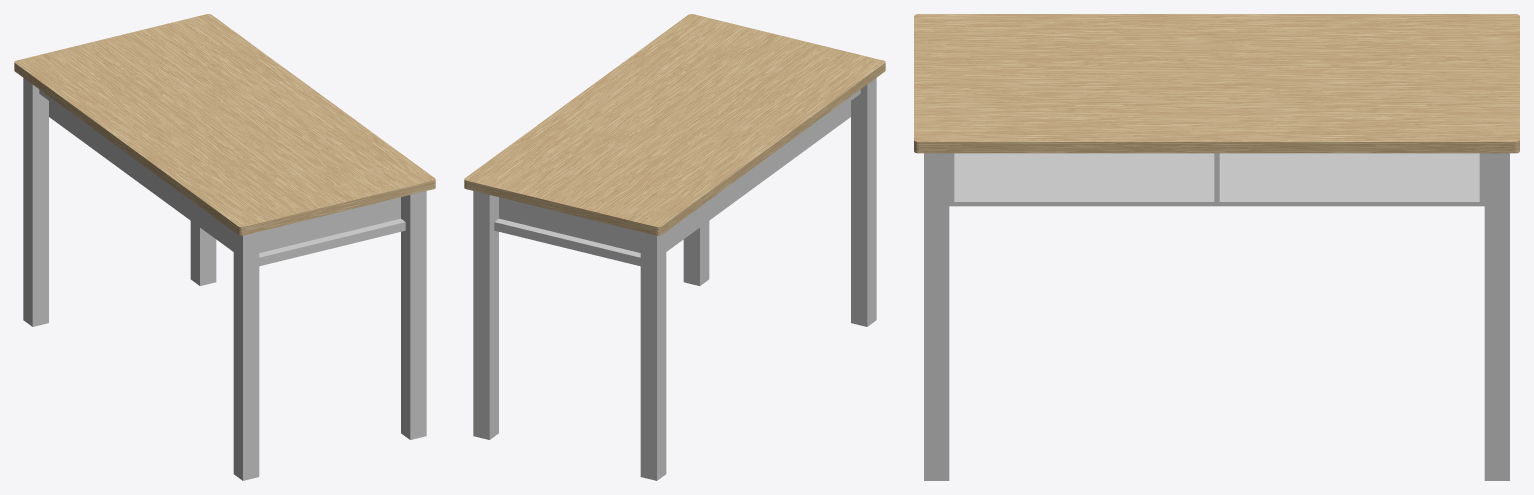
The model's file is Mesa01.fbx.
The picture shows the model from 3 angles, left to right: view 1: azimuth 30°, elevation 25°; view 2: azimuth 150°, elevation 25°; view 3: azimuth 270°, elevation 25°; orthographic projection. The views are drawn at different scales.
Parts seen in each view (by area): view 1: Mesa01; view 2: Mesa01; view 3: Mesa01.
Boxes of the visible parts, box(x1,y1,x2,y2) form: Mesa01: box(14, 14, 435, 480); Mesa01: box(464, 14, 885, 480); Mesa01: box(914, 14, 1519, 480).
Bounding box in the file's own units: 60 × 75 × 120.
